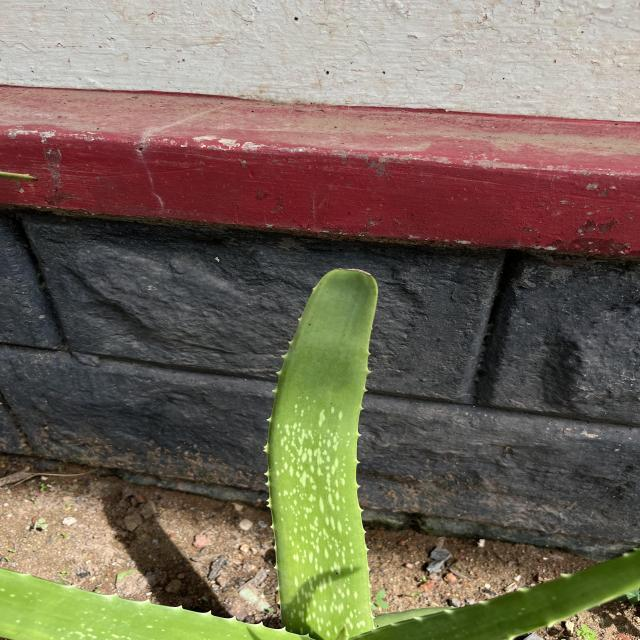Aloe vera: (260, 261, 392, 640)
